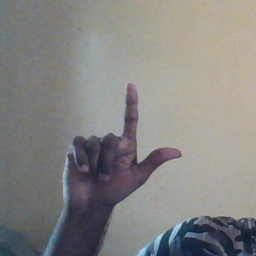L: (63, 83, 185, 207)
